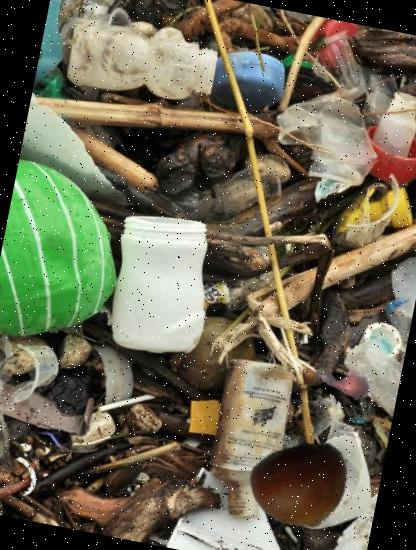Banana: (314, 350, 377, 412)
Nut: (244, 430, 358, 545)
